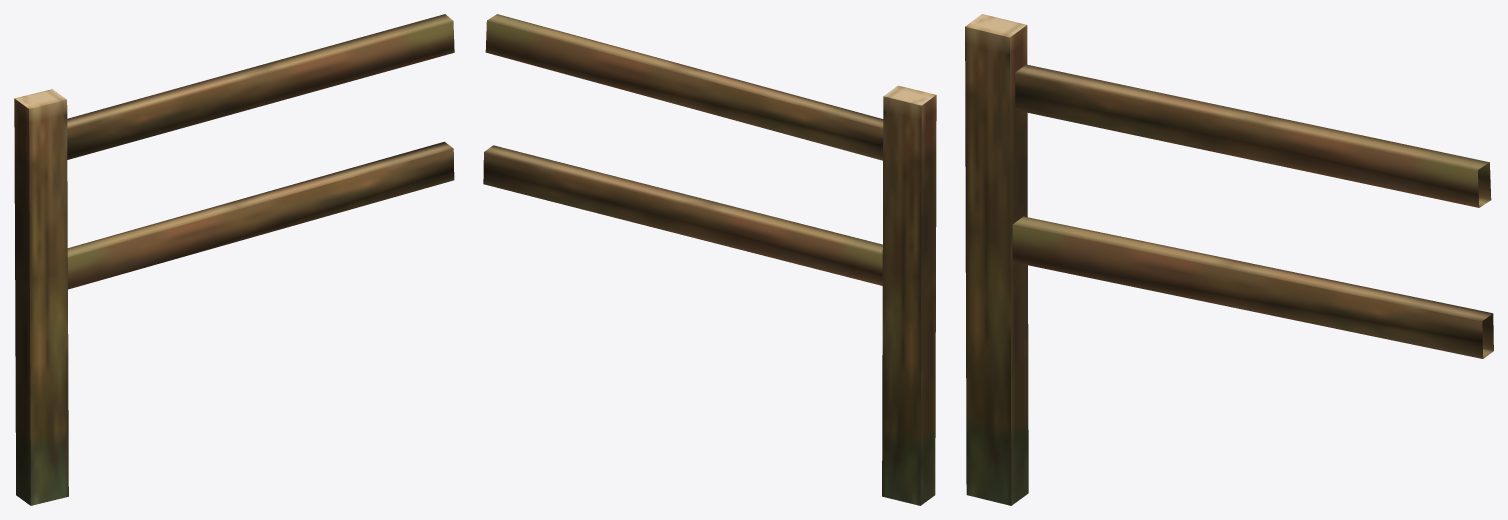
File: general_obj_fence04.fbx
The picture shows the model from 3 angles, left to right: view 1: azimuth 30°, elevation 25°; view 2: azimuth 150°, elevation 25°; view 3: azimuth 330°, elevation 25°; orthographic projection. The views are drawn at different scales.
Parts seen in each view (by area): view 1: Sphere01; view 2: Sphere01; view 3: Sphere01.
Part boxes in pixels (bbox=[...]): Sphere01: bbox=[14, 14, 454, 505]; Sphere01: bbox=[483, 14, 936, 505]; Sphere01: bbox=[965, 14, 1493, 505].
Size of the model in its own units: 2.44 by 2.14 by 0.1635.
